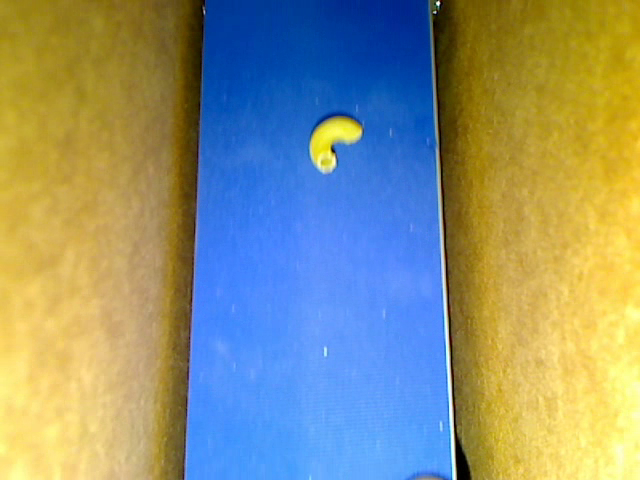elbow: (308, 115, 364, 175)
